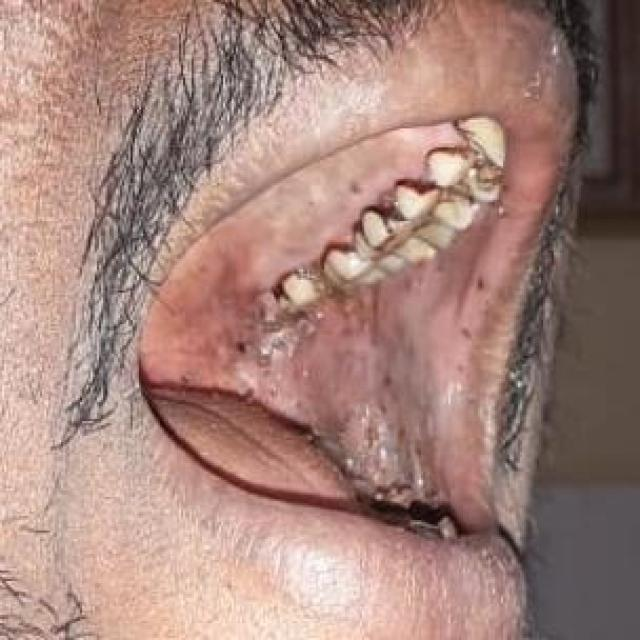leukoplakia-detection: (294, 229, 484, 496)
processing_area: (143, 126, 499, 540)
